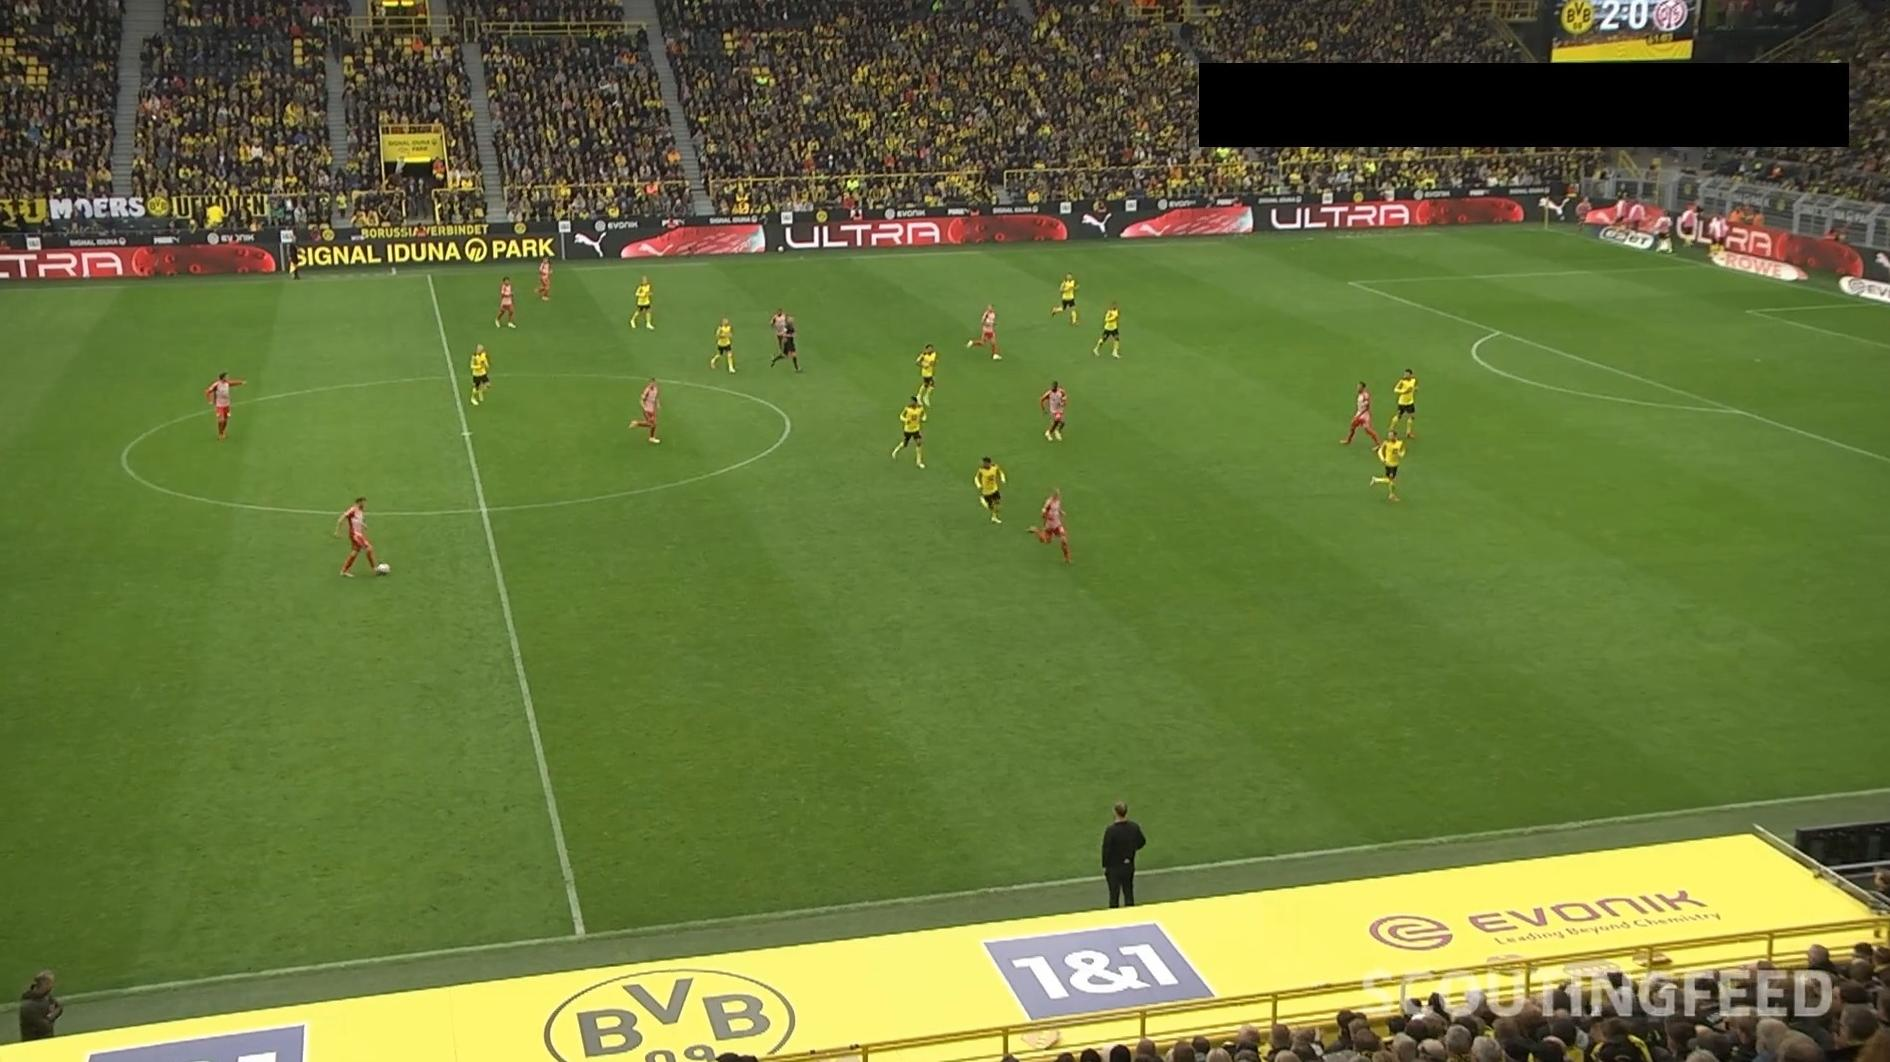ball: (374, 561, 392, 576)
